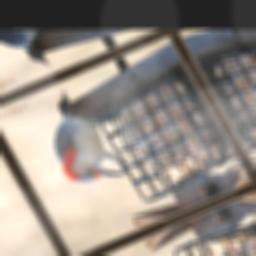Woodpecker: (26, 79, 138, 195)
